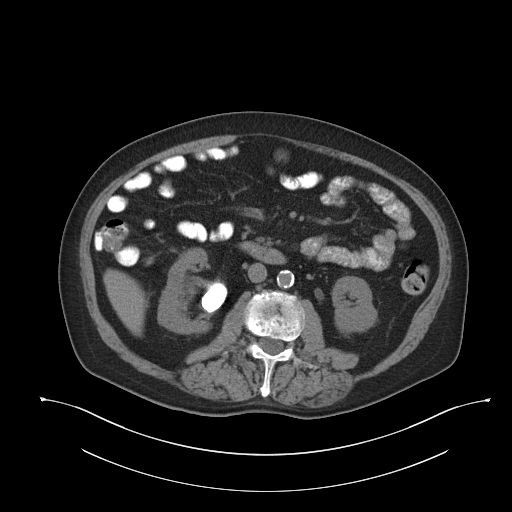Lesion: (194, 278, 230, 317)
